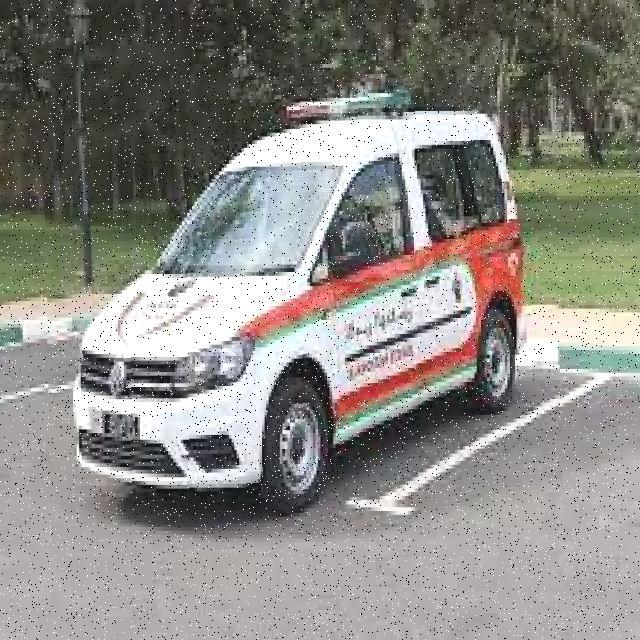police: (44, 65, 560, 524)
